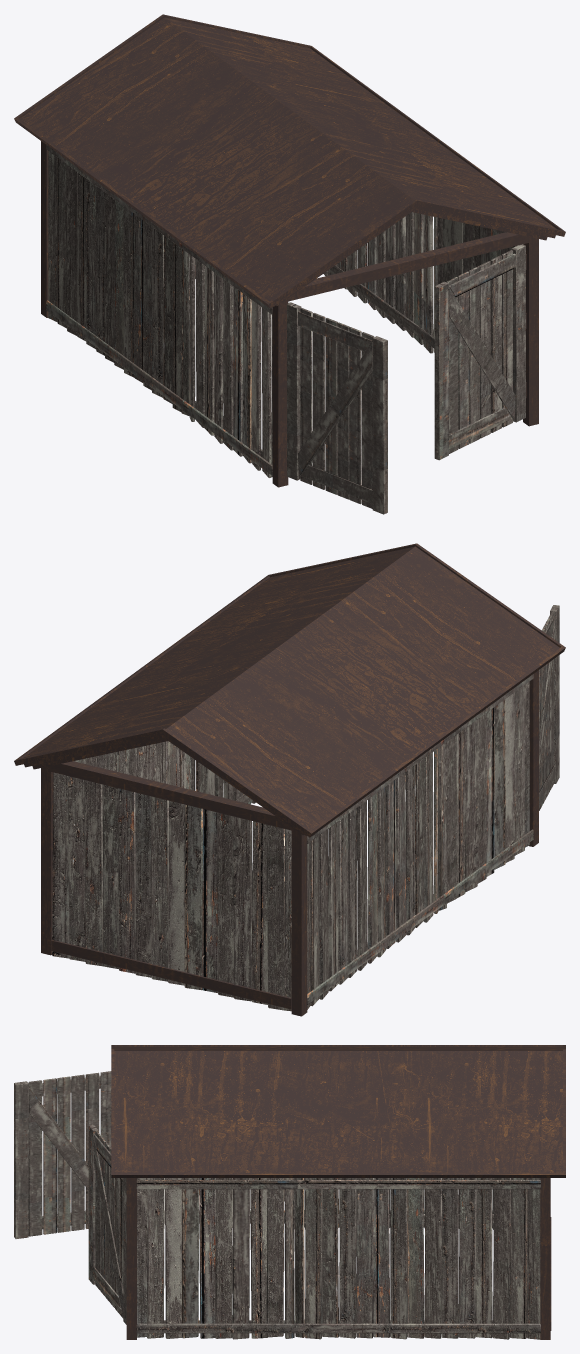
The model's file is farm.glb.
3 renders of one model, top to bottom at view 1: azimuth 30°, elevation 25°; view 2: azimuth 150°, elevation 25°; view 3: azimuth 270°, elevation 25°, orthographic. The views are drawn at different scales.
Parts seen in each view (by area): view 1: BASE, L, R; view 2: BASE, L; view 3: BASE, L, R.
Boxes of the visible parts, <box> form: BASE: <box>14,14,565,487</box>; L: <box>287,302,387,514</box>; R: <box>434,244,526,460</box>; BASE: <box>14,543,565,1016</box>; L: <box>539,605,559,810</box>; BASE: <box>111,1045,565,1339</box>; L: <box>14,1071,111,1238</box>; R: <box>88,1124,126,1324</box>.
Size of the model in its own units: 5.94 by 5.01 by 10.67.
2 materials, 2 textured.
